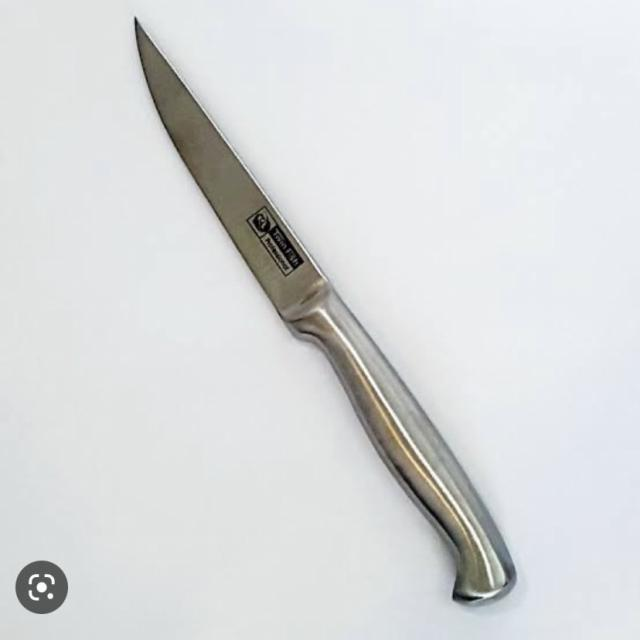Knife: (120, 9, 552, 615)
